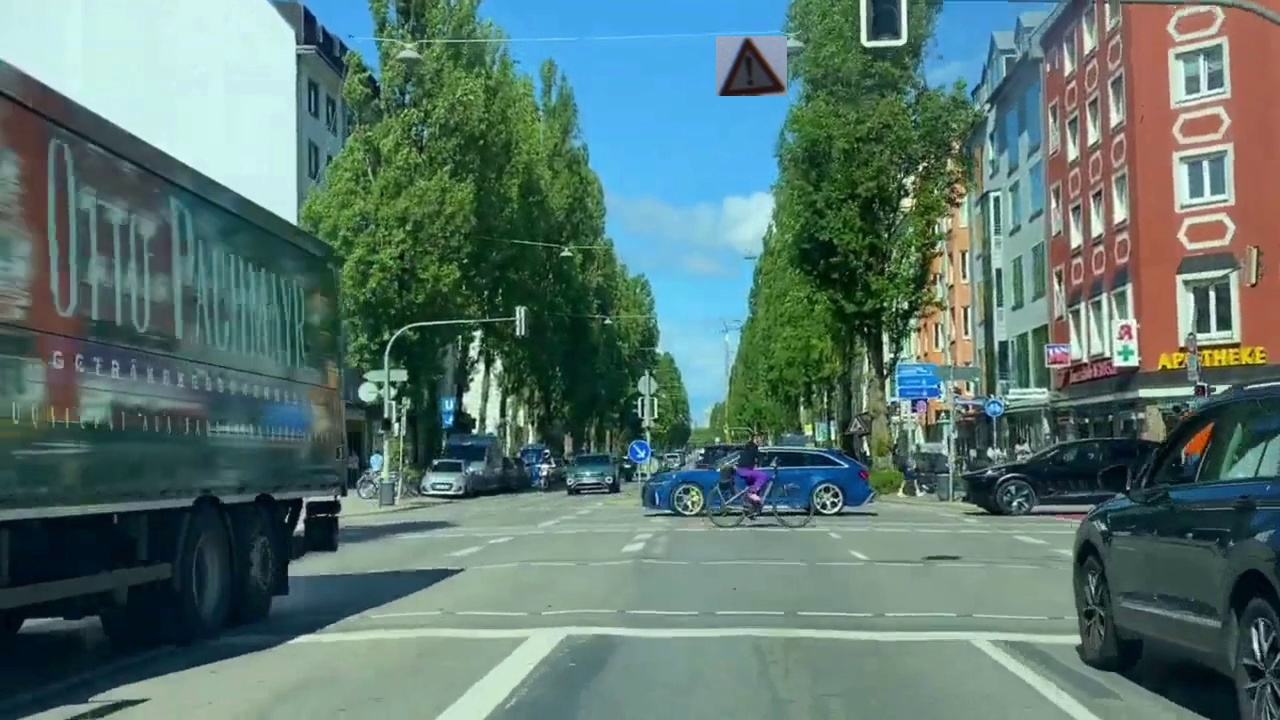Caution: (716, 36, 787, 96)
